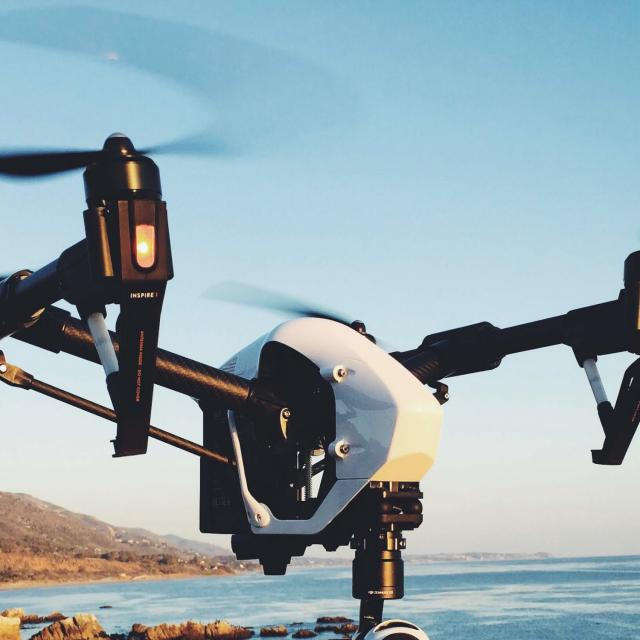drone: (0, 48, 640, 526)
